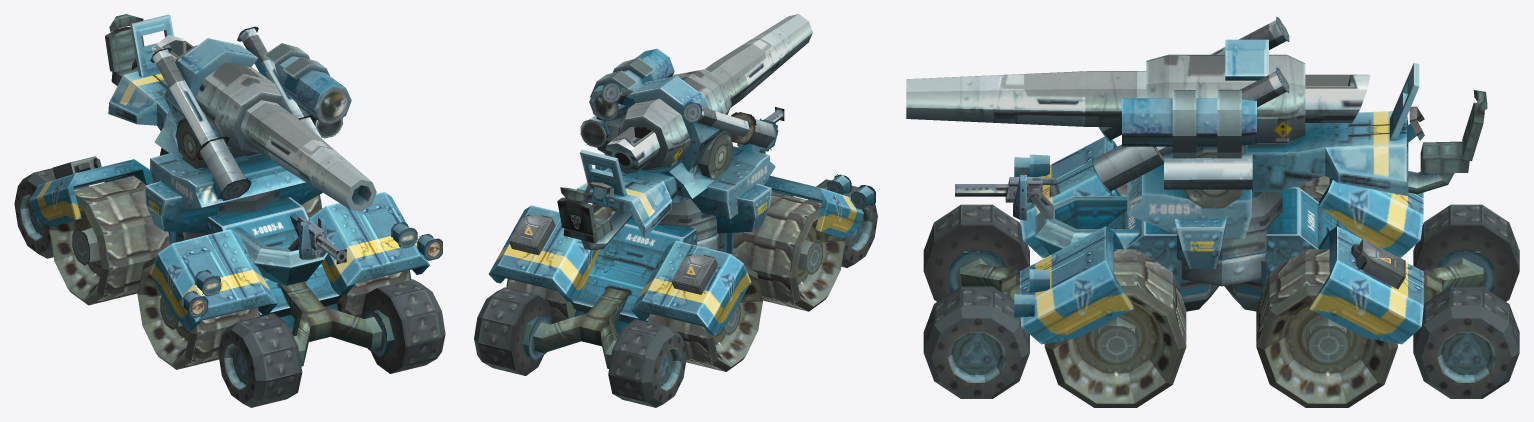
File: VXARTH.obj
3 renders of one model, left to right at view 1: azimuth 30°, elevation 25°; view 2: azimuth 150°, elevation 25°; view 3: azimuth 270°, elevation 25°, orthographic. The views are drawn at different scales.
Visible parts, largest first — view 1: Node 0, Node 6, Node 36, Node 1, Node 3, Node 2, Node 14, Node 37, Node 15, Node 4, Node 20; view 2: Node 0, Node 6, Node 2, Node 37, Node 35, Node 36, Node 1, Node 18, Node 20, Node 34; view 3: Node 6, Node 0, Node 34, Node 4, Node 35, Node 3, Node 1, Node 37, Node 14, Node 15, Node 18.
Boxes of the visible parts, box(x1,y1,x2,y2) form: Node 0: box(29, 153, 442, 366); Node 6: box(105, 14, 376, 211); Node 36: box(49, 175, 170, 305); Node 1: box(218, 313, 302, 407); Node 3: box(361, 279, 445, 373); Node 2: box(137, 257, 259, 369); Node 14: box(233, 213, 334, 285); Node 37: box(14, 168, 88, 258); Node 15: box(288, 216, 346, 264); Node 4: box(336, 270, 411, 318); Node 20: box(53, 156, 101, 179); Node 0: box(488, 146, 875, 368); Node 6: box(557, 14, 812, 250); Node 2: box(732, 191, 845, 311); Node 37: box(608, 319, 686, 407); Node 35: box(474, 287, 552, 375); Node 36: box(648, 266, 762, 371); Node 1: box(808, 179, 877, 267); Node 18: box(509, 214, 555, 255); Node 20: box(671, 254, 717, 294); Node 34: box(506, 279, 575, 323); Node 6: box(906, 17, 1487, 208); Node 0: box(949, 136, 1493, 344); Node 34: box(1256, 249, 1397, 407); Node 4: box(1044, 249, 1186, 407); Node 35: box(1413, 286, 1519, 398); Node 3: box(923, 286, 1029, 398); Node 1: box(923, 204, 1029, 301); Node 37: box(1413, 204, 1519, 301); Node 14: box(1035, 196, 1139, 254); Node 15: box(955, 167, 1059, 220); Node 18: box(1351, 238, 1405, 289).
Bounding box in the file's own units: 5.77 × 5.54 × 10.04.
Materials: 25 (25 with a texture image).
